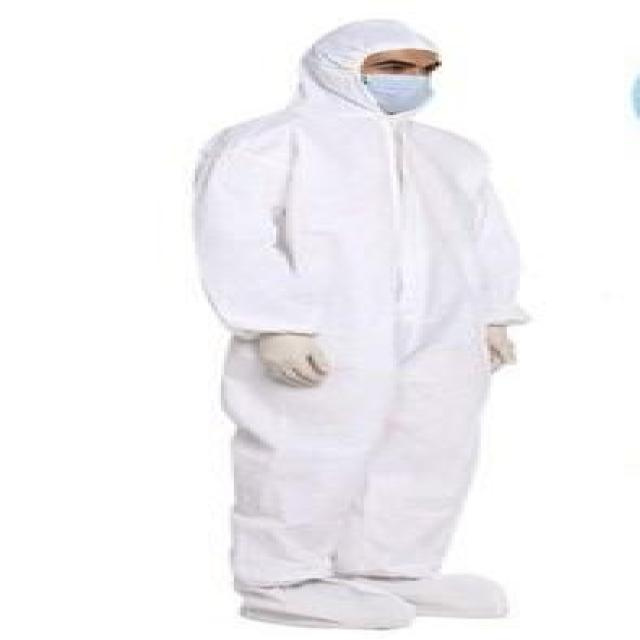Coverall: (179, 13, 536, 625)
Gloves: (254, 331, 332, 389), (478, 322, 517, 375)
Mask: (364, 71, 432, 114)
